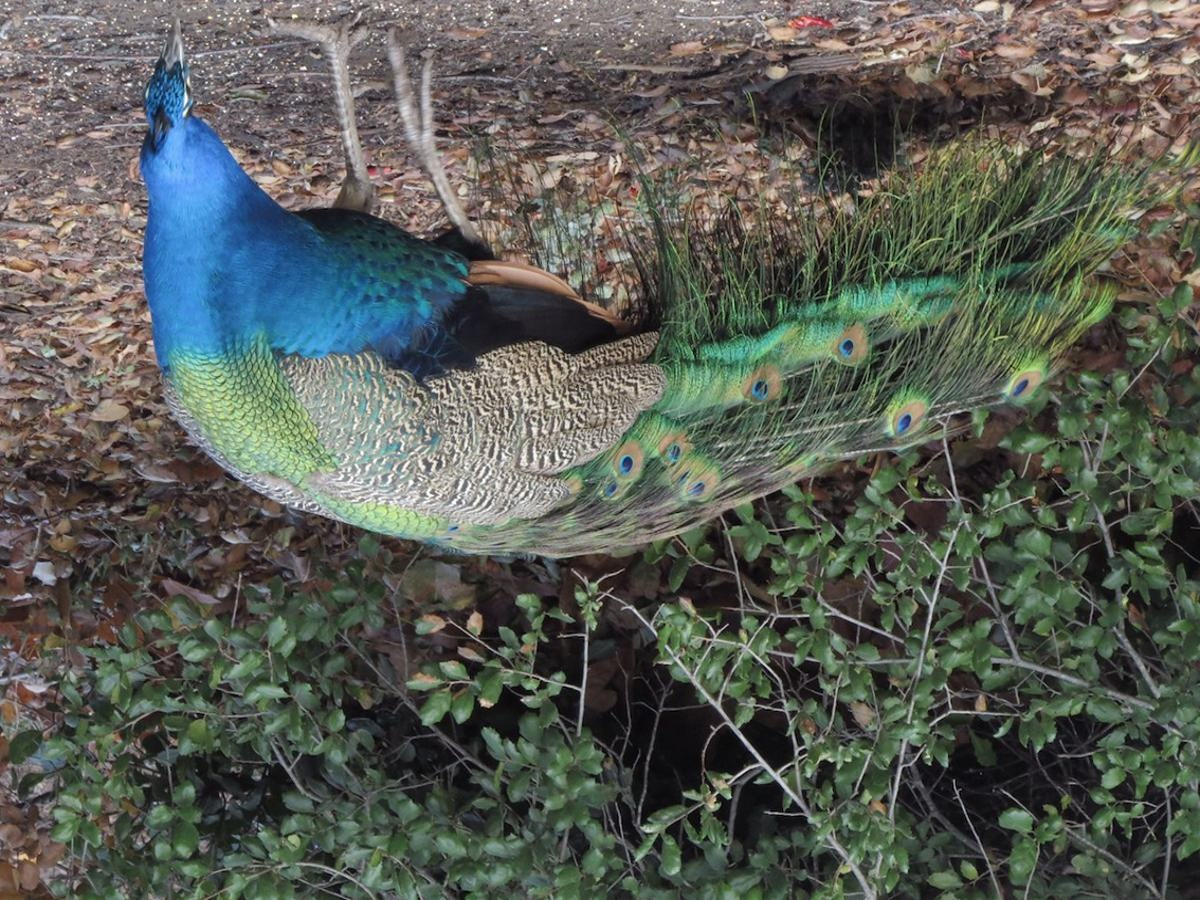peacock: (128, 91, 1099, 573)
